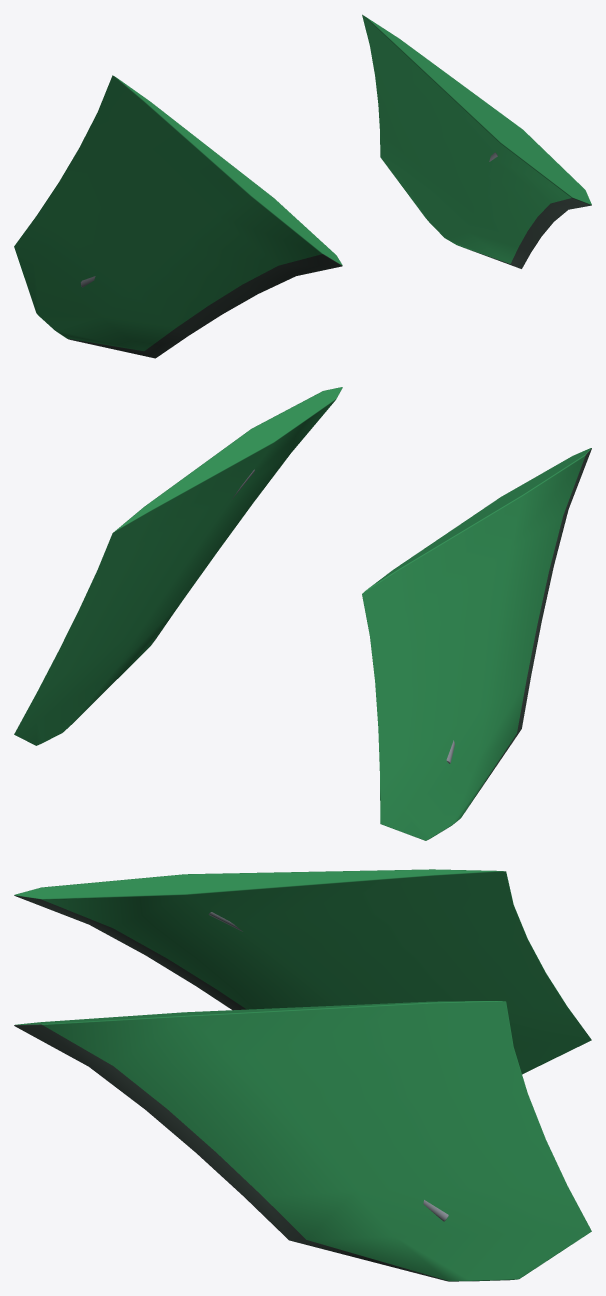
The model's file is wraith_tail_twin.fbx.
3 renders of one model, top to bottom at view 1: azimuth 30°, elevation 25°; view 2: azimuth 150°, elevation 25°; view 3: azimuth 270°, elevation 25°, orthographic. The views are drawn at different scales.
Parts seen in each view (by area): view 1: Tail_Twin; view 2: Tail_Twin; view 3: Tail_Twin.
Boxes of the visible parts, x1=… form: Tail_Twin: x1=14, y1=14, x2=591, y2=358; Tail_Twin: x1=14, y1=387, x2=591, y2=840; Tail_Twin: x1=14, y1=869, x2=591, y2=1281.
Bounding box in the file's own units: 65.16 × 35.79 × 76.71.
